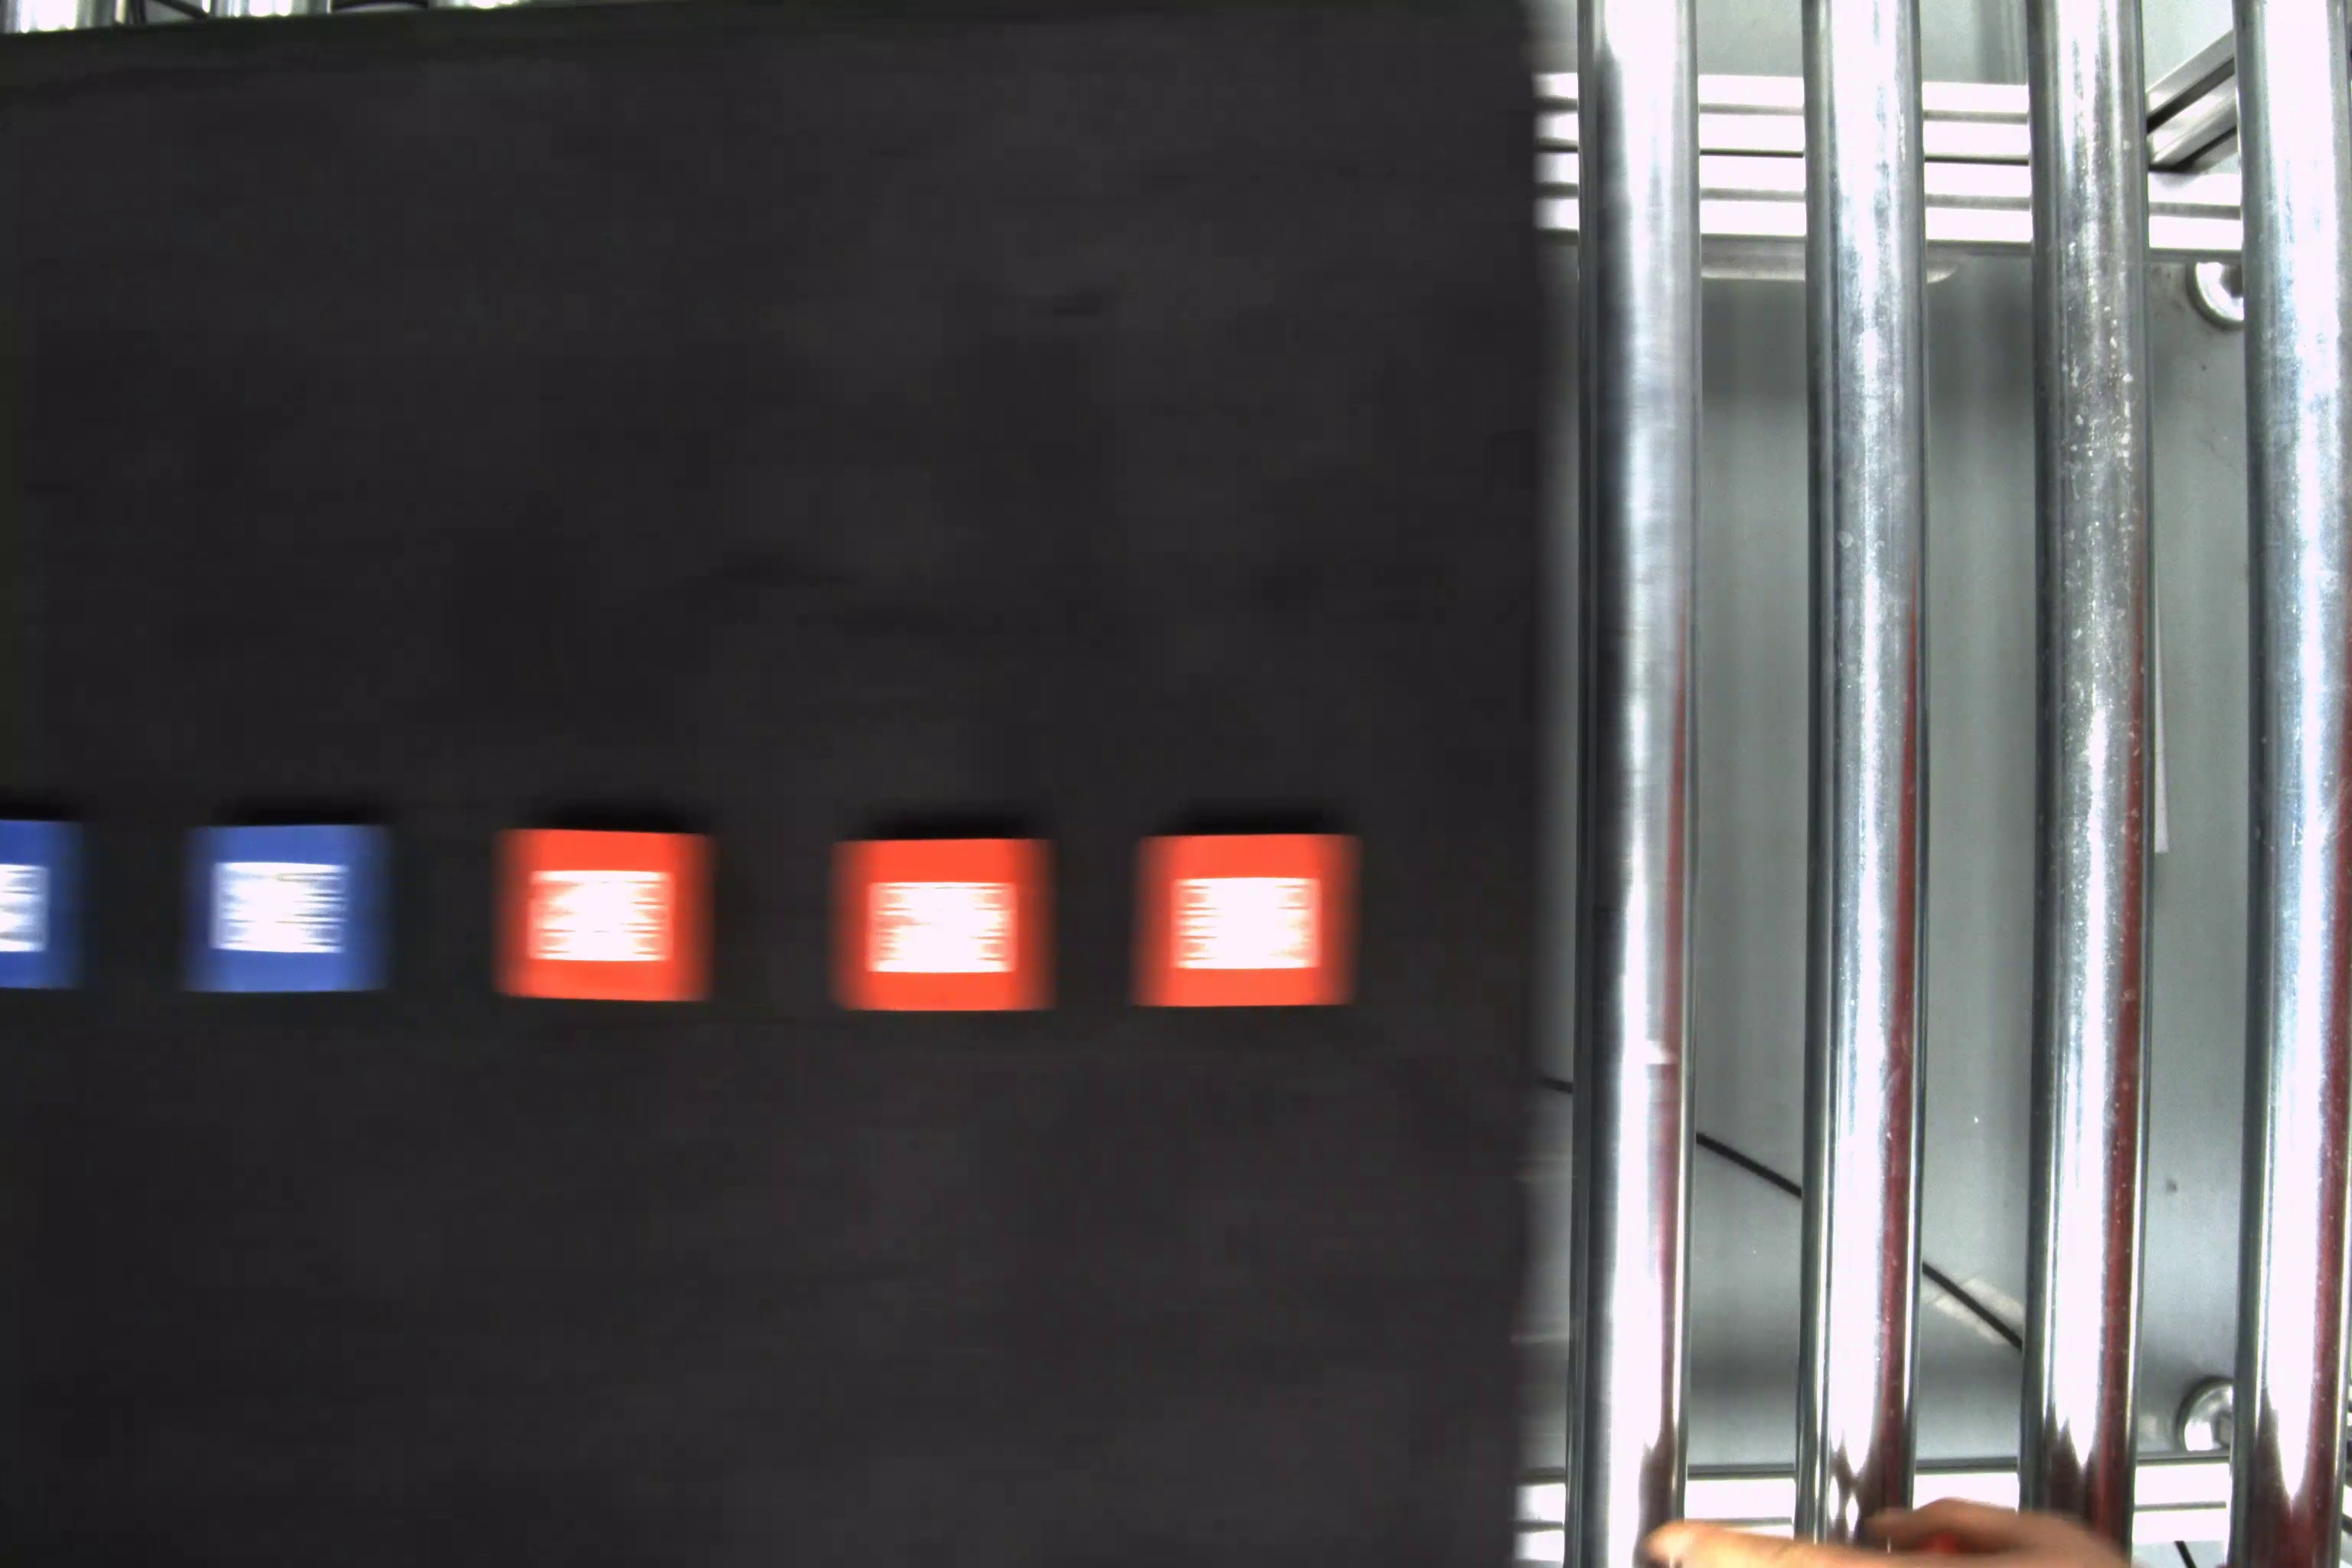wood: (824, 833, 1060, 1015), (1136, 833, 1368, 1011), (497, 822, 717, 1004), (185, 824, 401, 992), (5, 819, 86, 990)
